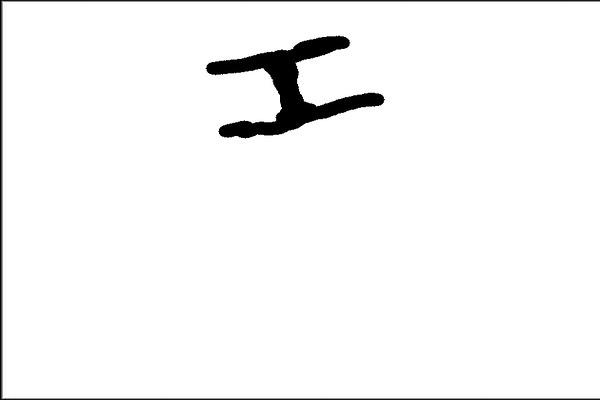i: (193, 32, 387, 143)
